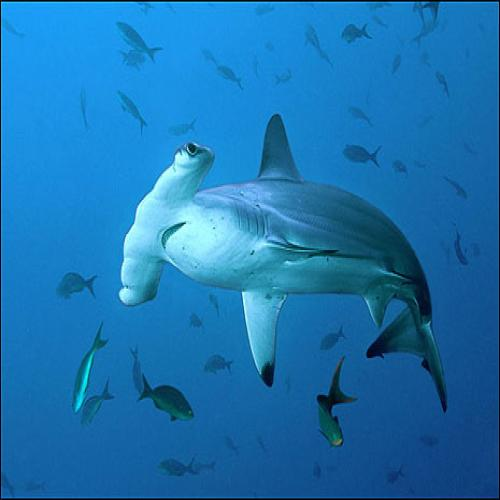shark-endangered: (117, 111, 446, 411)
